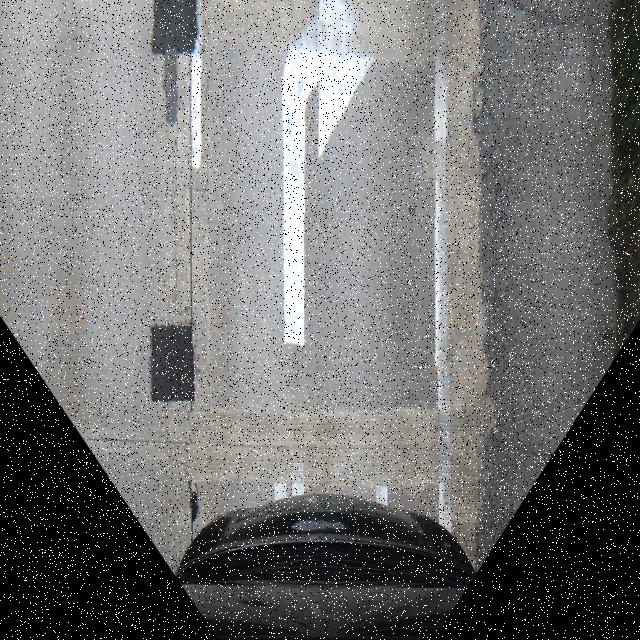right: (196, 4, 458, 366)
